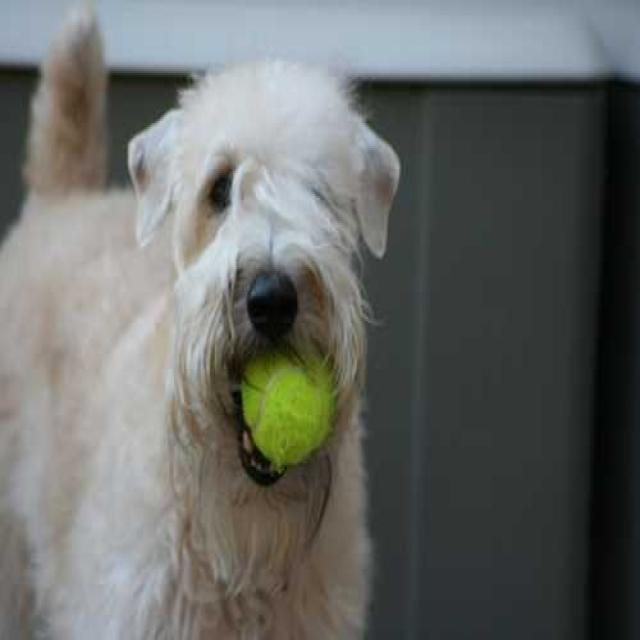Tennis_Ball: (242, 349, 331, 469)
